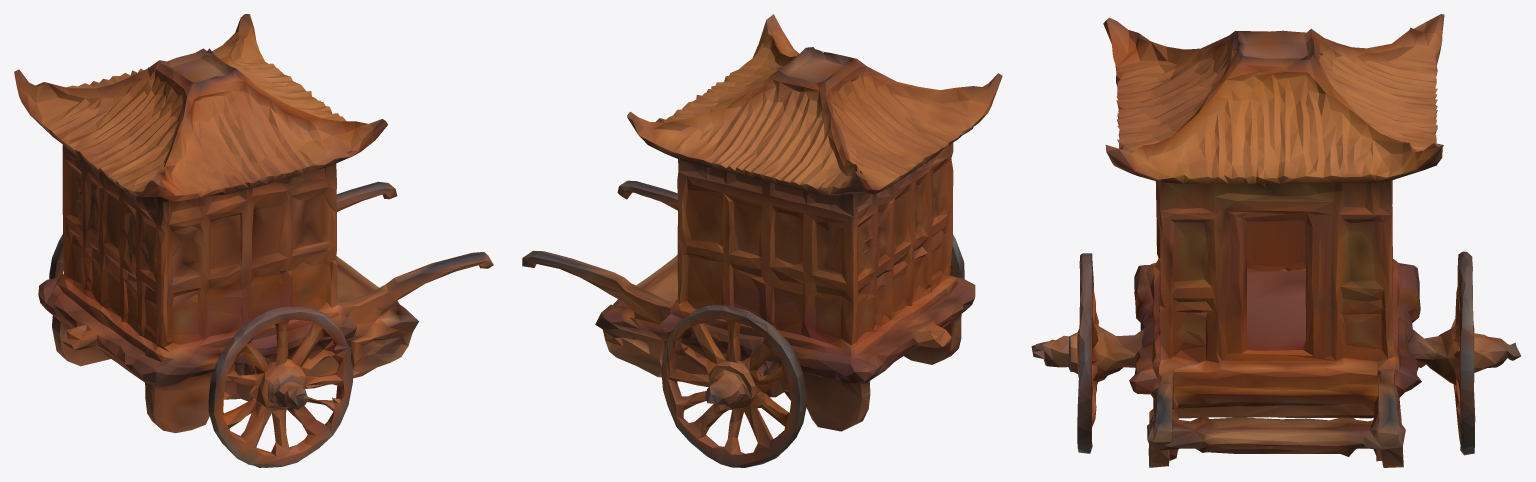
File: lib_cart.vc.glb
3 renders of one model, left to right at view 1: azimuth 30°, elevation 25°; view 2: azimuth 150°, elevation 25°; view 3: azimuth 270°, elevation 25°, orthographic. The views are drawn at different scales.
Visible parts, largest first — view 1: lib_cart; view 2: lib_cart; view 3: lib_cart.
Boxes of the visible parts, x1,y1,x2,y2 form: lib_cart: (14, 14, 493, 467); lib_cart: (522, 14, 1002, 467); lib_cart: (1031, 14, 1520, 467).
Bounding box in the file's own units: 1.96 × 1.72 × 1.88.
